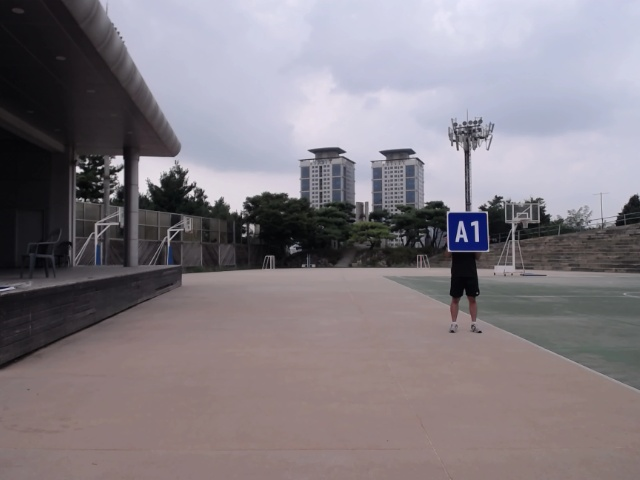delivery_a1: (448, 212, 490, 251)
